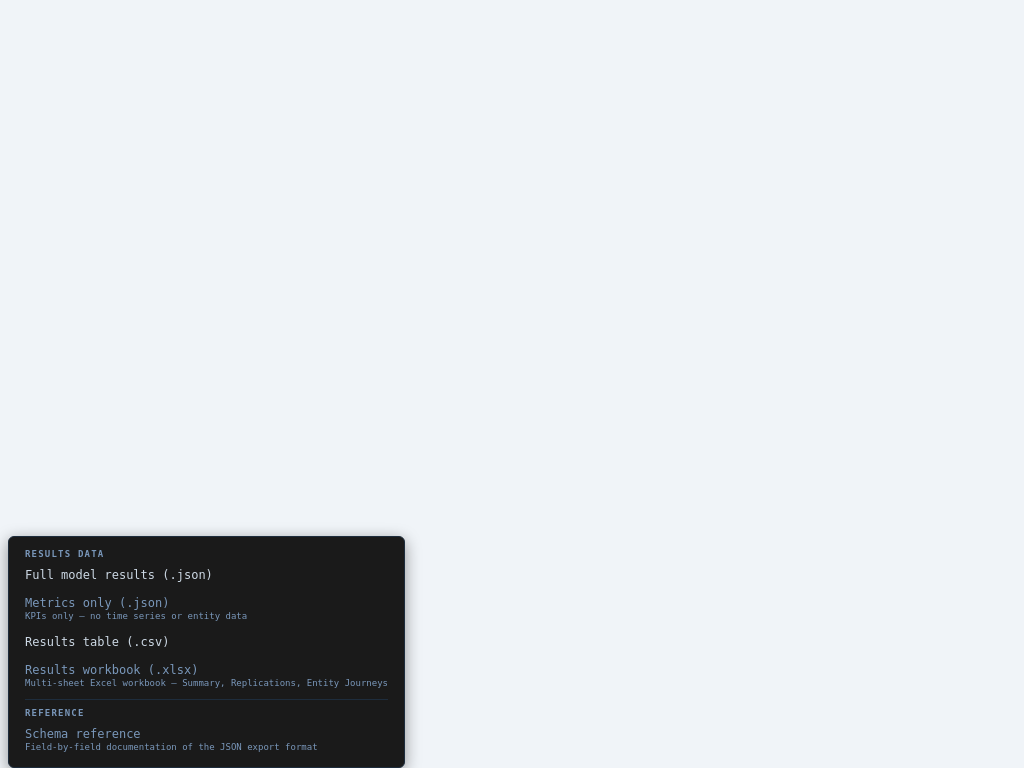
Test: ExportPopover › opens the schema reference modal
This screenshot has width=1024, height=768.
(page scrolled)
Click the button "Schema reference": [206, 740] box [17,720,396,759]
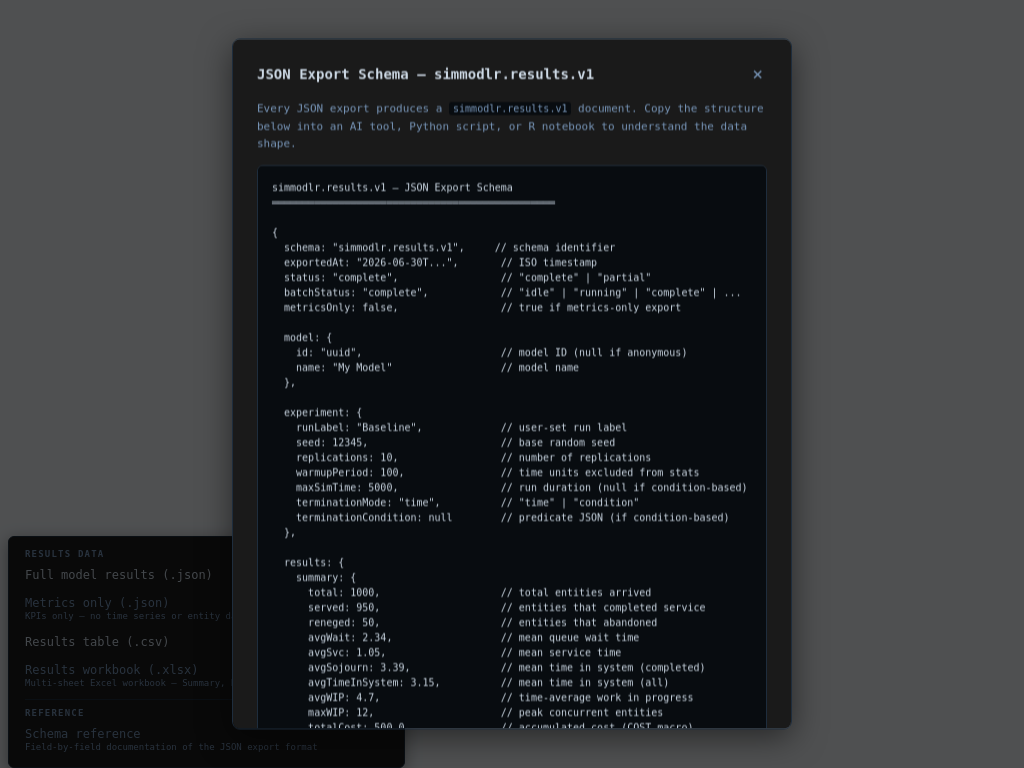
Expected: the dialog named "json export schema reference" is shown, [232,38,792,730]
